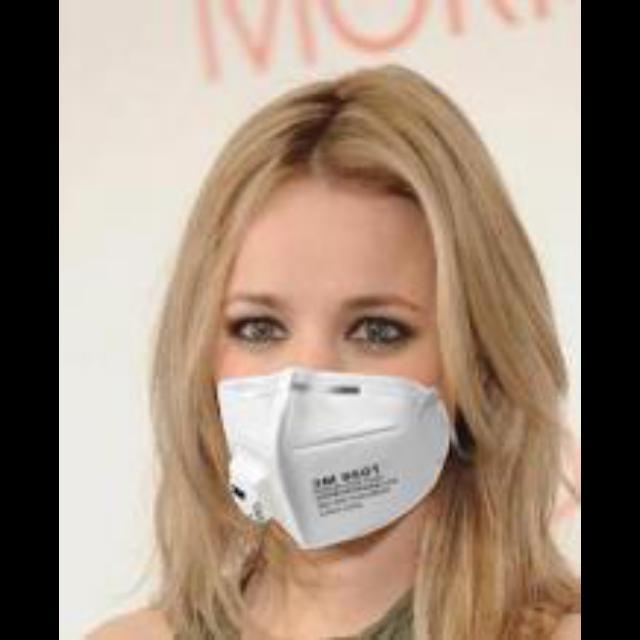suspicion: (149, 132, 483, 562)
